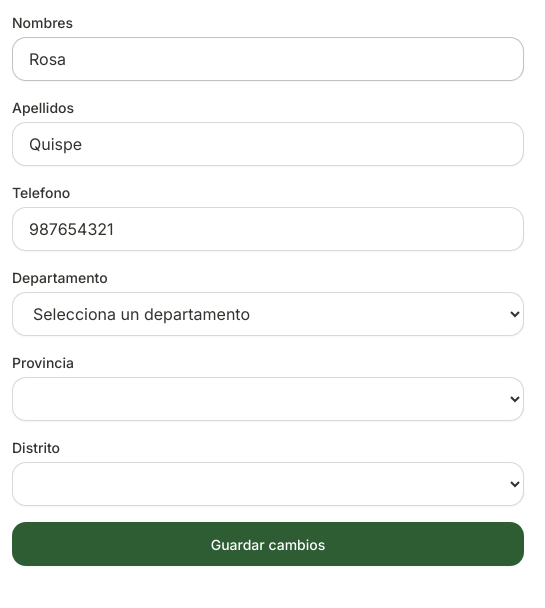
Test case: ProfileForm › muestra error si se borra el nombre
The width and height of the screenshot is (545, 608).
Clear the field labelled "Nombres" at (268,59), box x1=12 y1=37 x2=524 y2=81
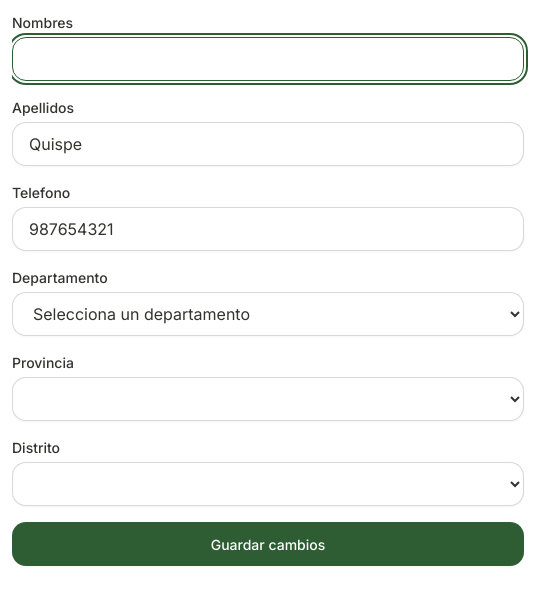
Click the button "Guardar cambios" at (268,544), box x1=12 y1=522 x2=524 y2=566
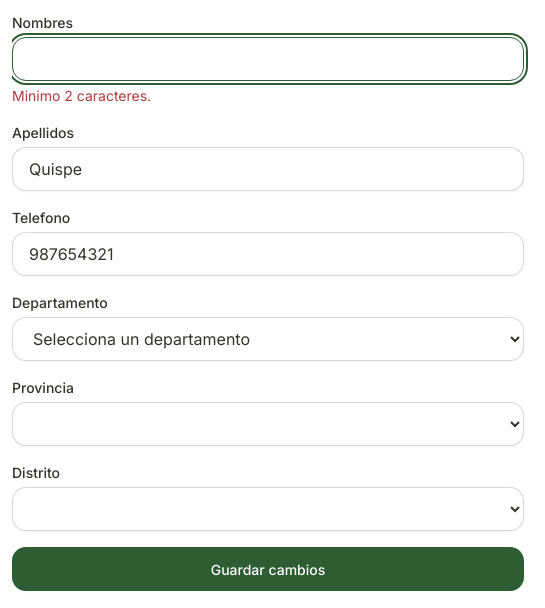
Result: the text "Minimo 2 caracteres." is shown at x1=12 y1=87 x2=151 y2=104
